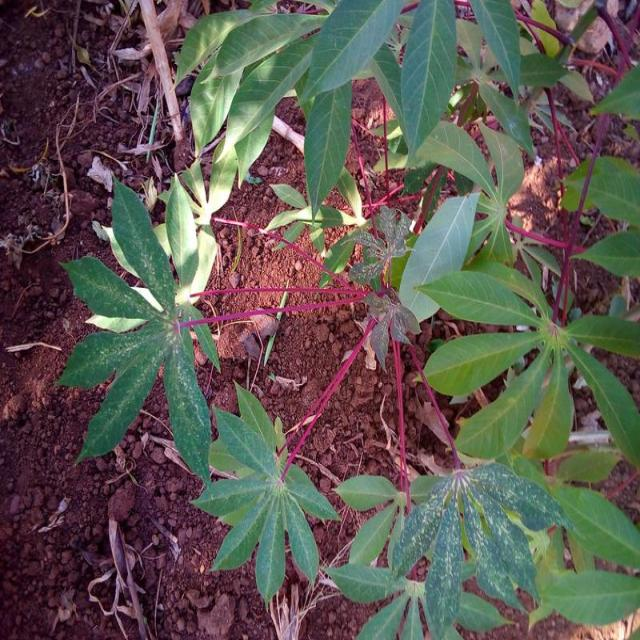cassava leaf: (55, 0, 639, 637), (190, 381, 342, 610)
